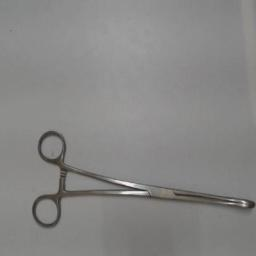Sponge Forceps: (28, 128, 256, 234)
